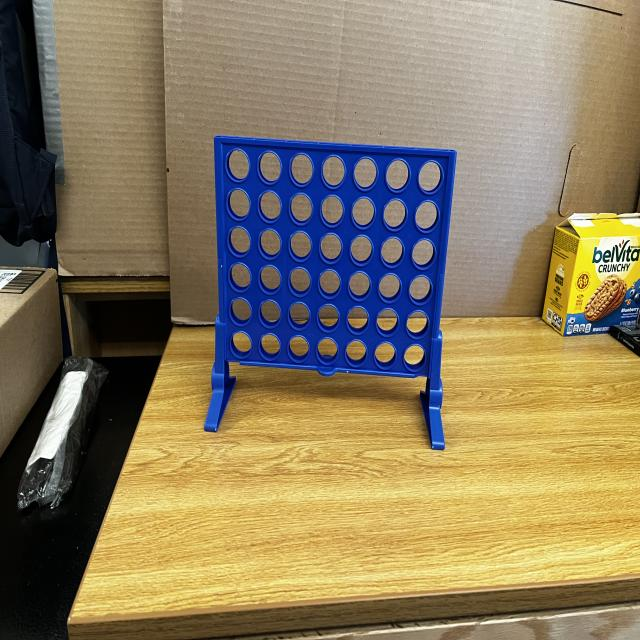Board: (212, 133, 450, 385)
